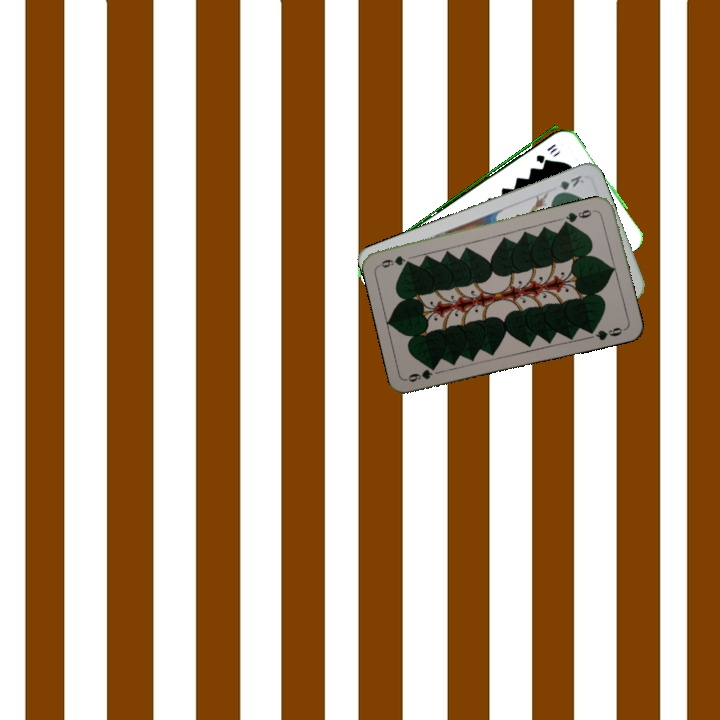G10: (532, 140, 558, 165)
G9: (403, 362, 439, 385), (560, 206, 599, 226)
GK: (550, 171, 587, 198)
